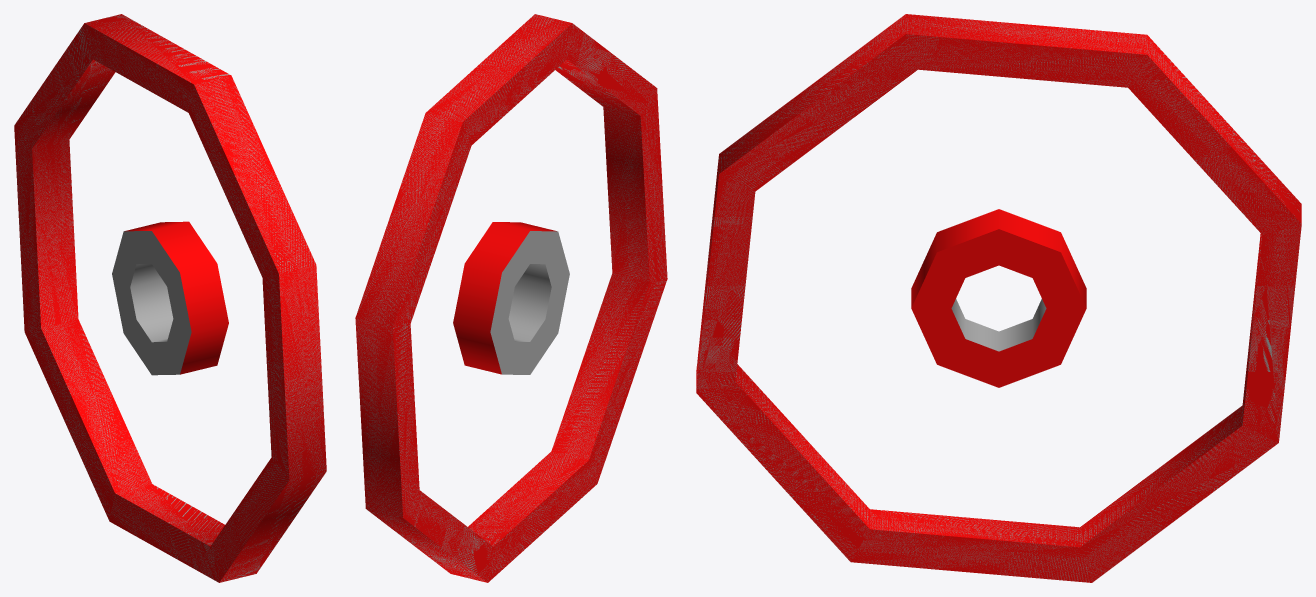
Rendered from pp01-valve-03.dae.
The picture shows the model from 3 angles, left to right: view 1: azimuth 30°, elevation 25°; view 2: azimuth 150°, elevation 25°; view 3: azimuth 270°, elevation 25°; orthographic projection. The views are drawn at different scales.
Visible parts, largest first — view 1: group_0 (×2), SketchUp (×3); view 2: group_0 (×2), SketchUp (×3); view 3: group_0 (×2), SketchUp (×2).
Part boxes in pixels (box(x1,y1,x2,y2)): group_0 (×2): box(14, 14, 326, 582); SketchUp (×3): box(112, 221, 228, 375); group_0 (×2): box(355, 14, 667, 582); SketchUp (×3): box(453, 222, 569, 374); group_0 (×2): box(696, 14, 1301, 582); SketchUp (×2): box(911, 209, 1086, 387).
Size of the model in its own units: 0.5906 by 7.53 by 7.53.
